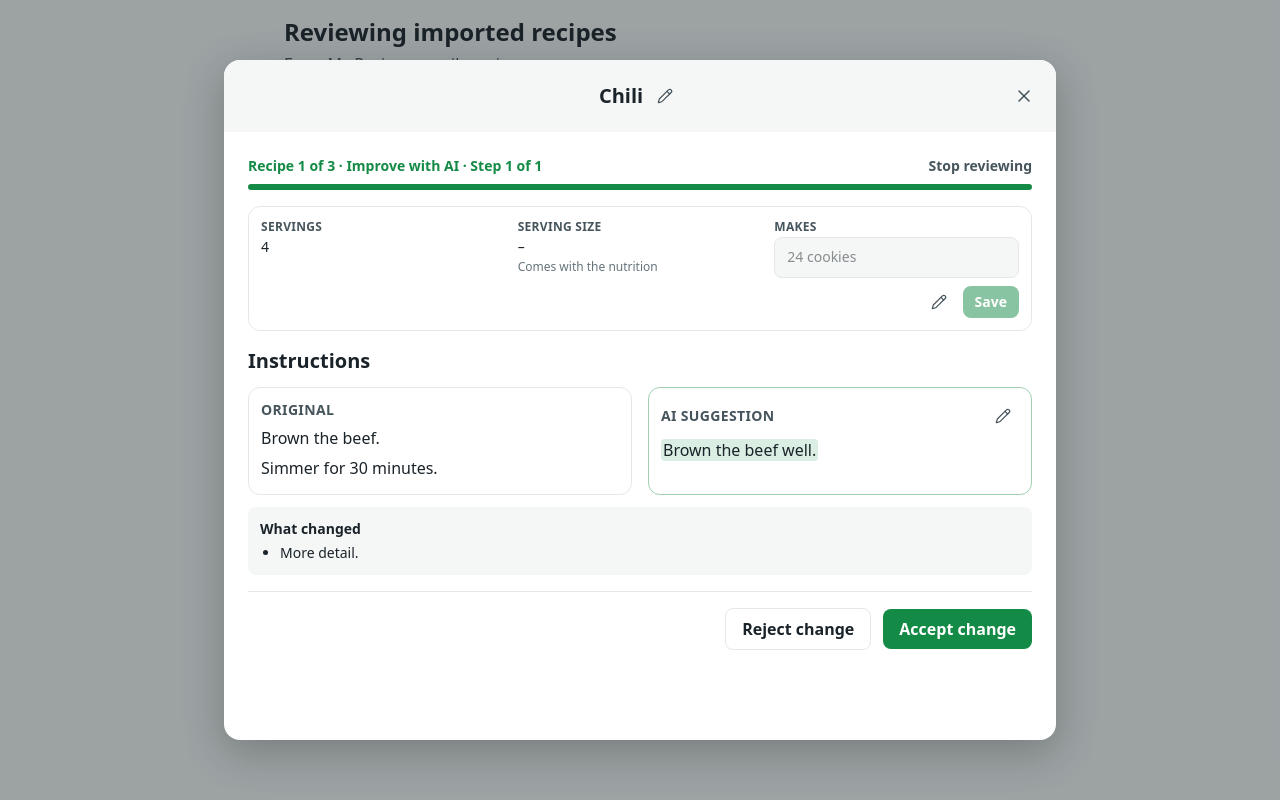
Test: reviewing imported recipes one by one › Stop reviewing ends it early; what's done stays done
Click the button "Stop reviewing". click: (980, 166)
box: [928,156,1032,176]
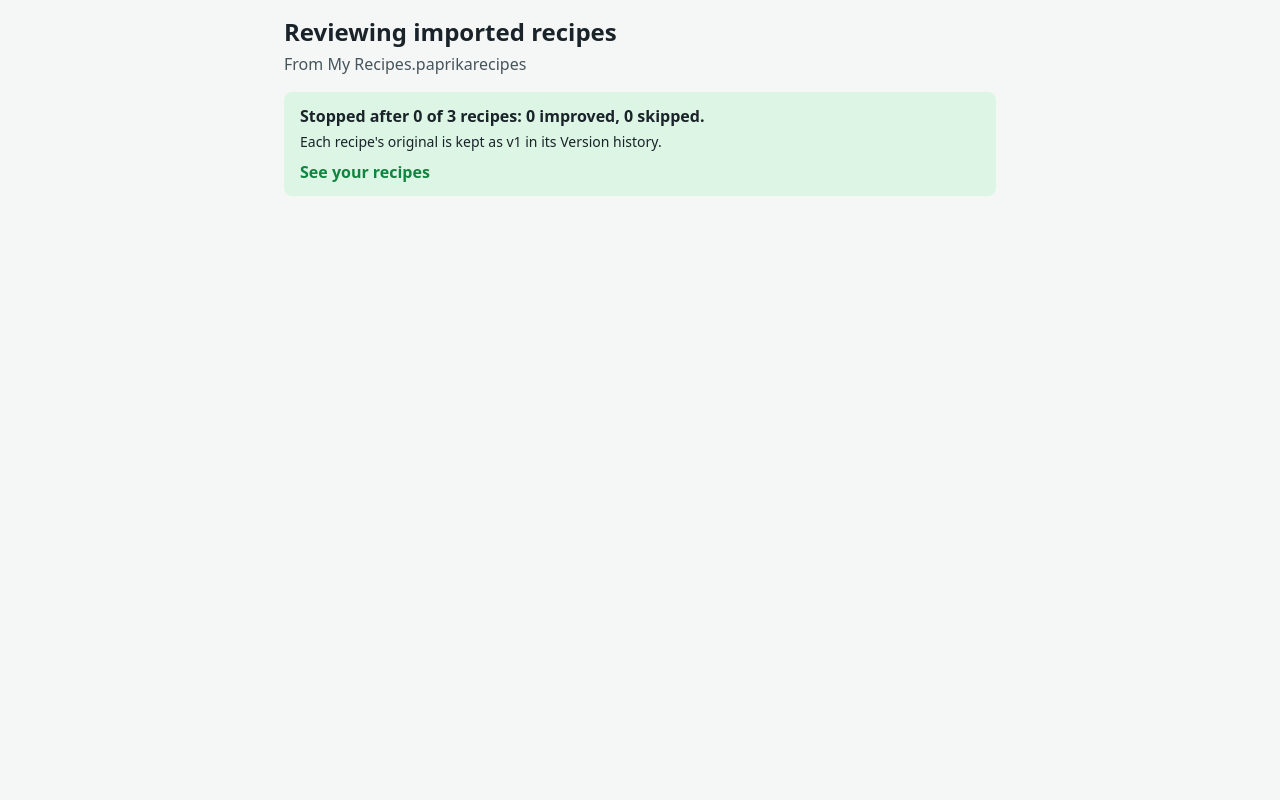
Now the message named "Review finished" shows "Stopped after 0 of 3 recipes: 0 improved, 0 skipped.", box [284,92,996,196]
